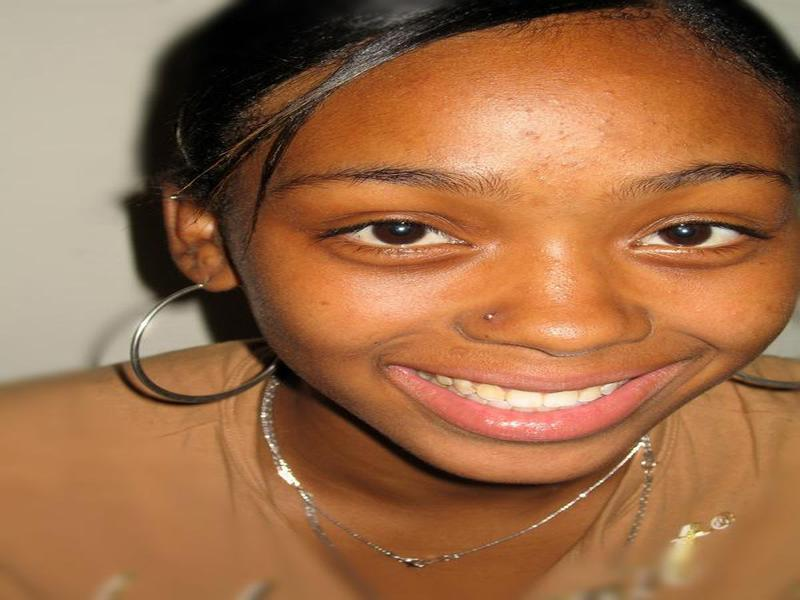person: (64, 1, 800, 600)
